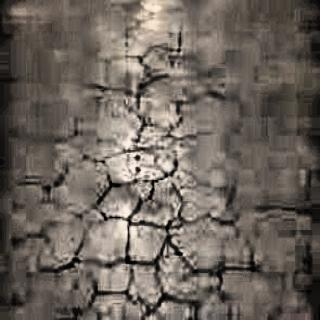alligator-crack: (47, 27, 267, 316)
